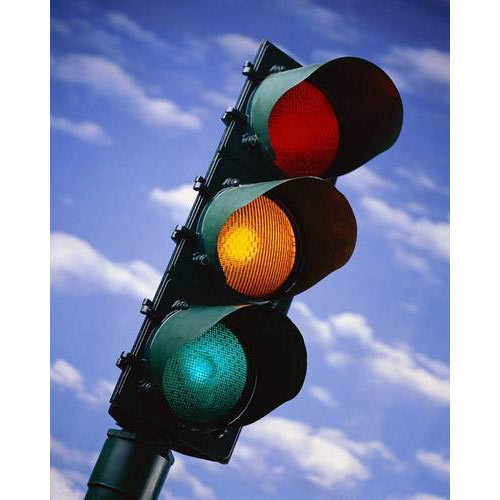trafic: (118, 59, 405, 431)
